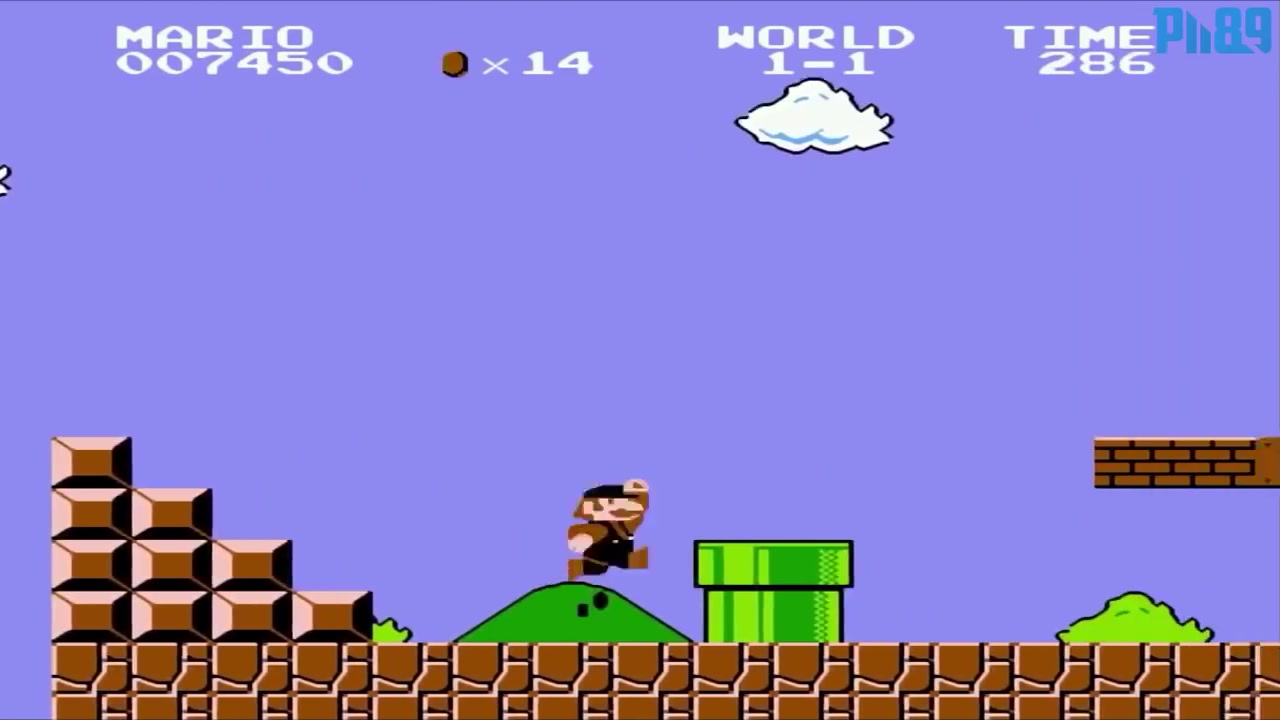mario: (567, 473, 674, 583)
